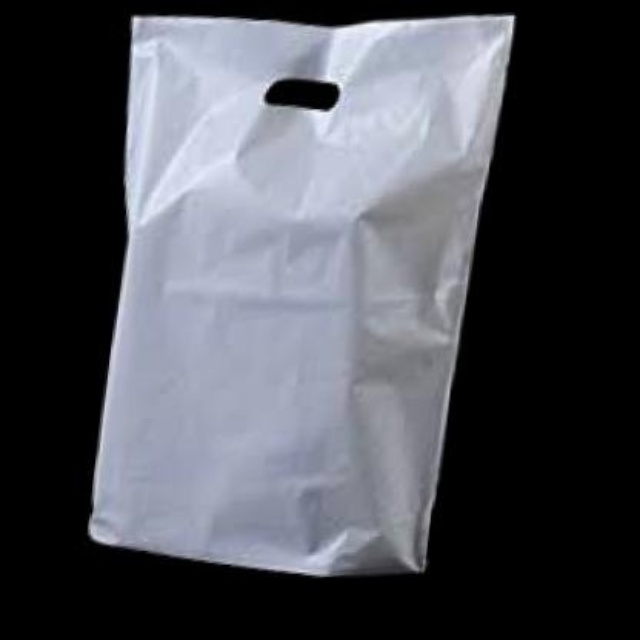trash: (89, 15, 512, 574)
